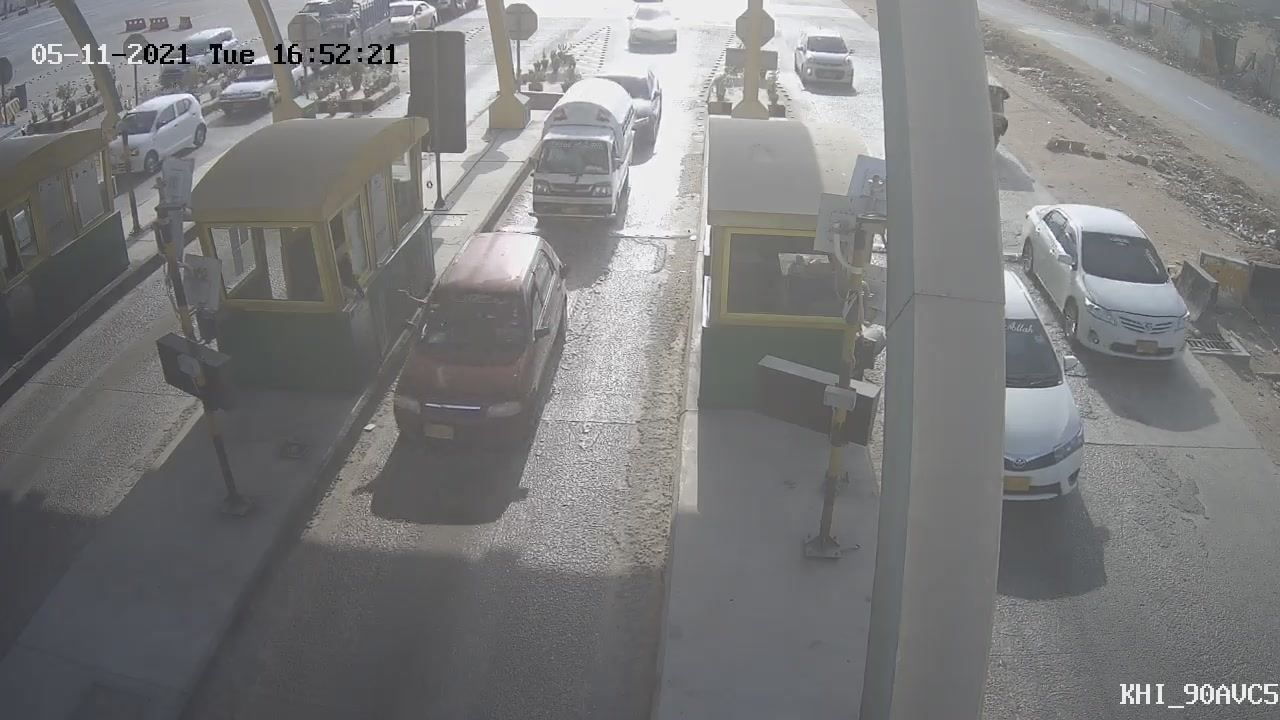F1: (388, 232, 570, 456), (503, 61, 652, 247)
